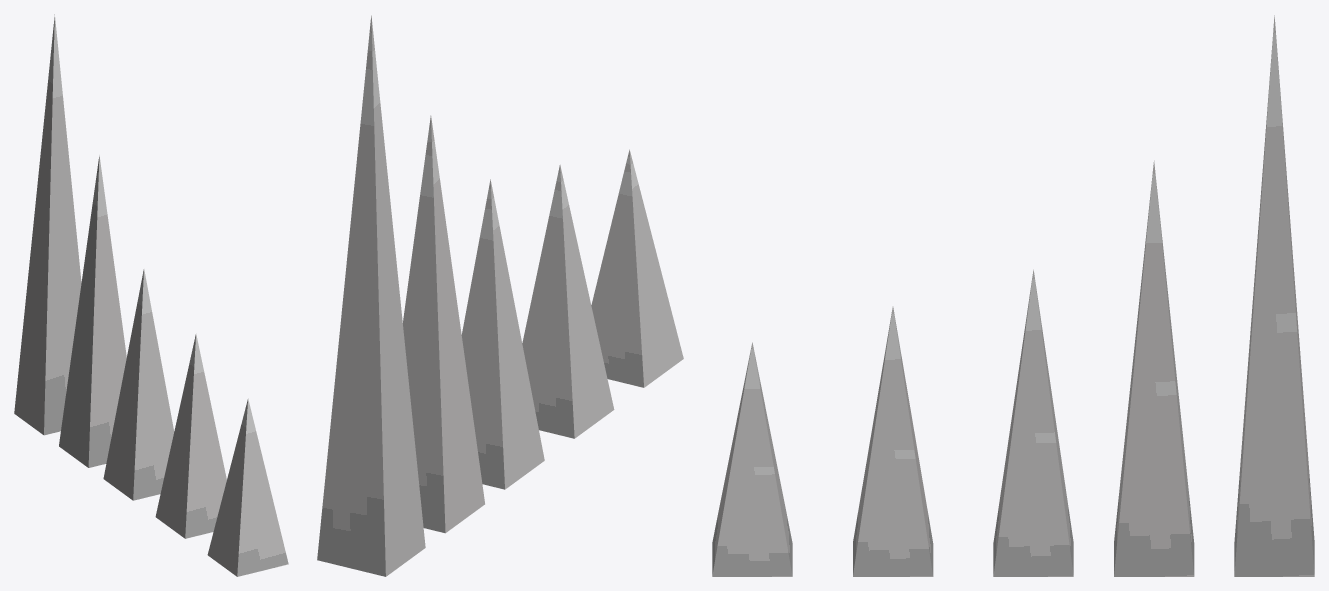
Rendered from spike.gltf.
The picture shows the model from 3 angles, left to right: view 1: azimuth 30°, elevation 25°; view 2: azimuth 150°, elevation 25°; view 3: azimuth 270°, elevation 25°; orthographic projection. The views are drawn at different scales.
Parts seen in each view (by area): view 1: pyramid (×5); view 2: pyramid (×5); view 3: pyramid (×5).
Boxes of the visible parts, x1,y1,x2,y2 form: pyramid (×5): (14,14,288,576); pyramid (×5): (317,15,683,576); pyramid (×5): (712,15,1314,576).
Bounding box in the file's own units: 0.25 × 1.88 × 1.88.
1 material, 1 textured.
